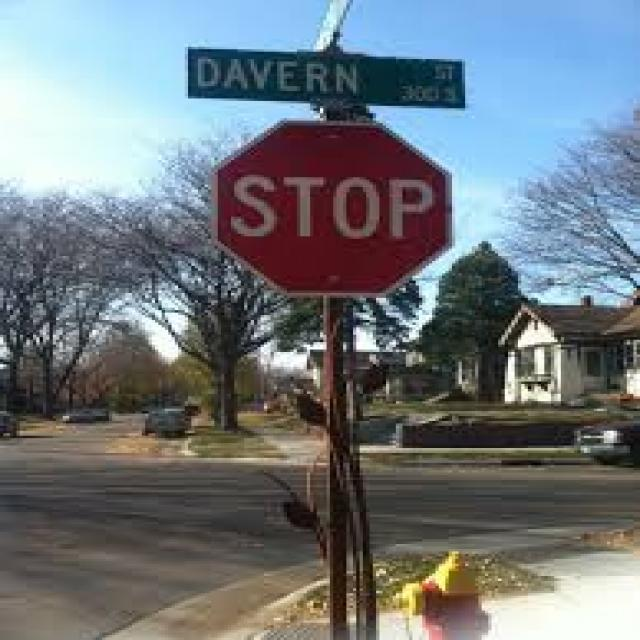stop-sign: (222, 105, 488, 297)
